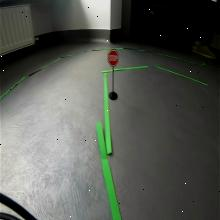stop: (107, 49, 119, 66)
